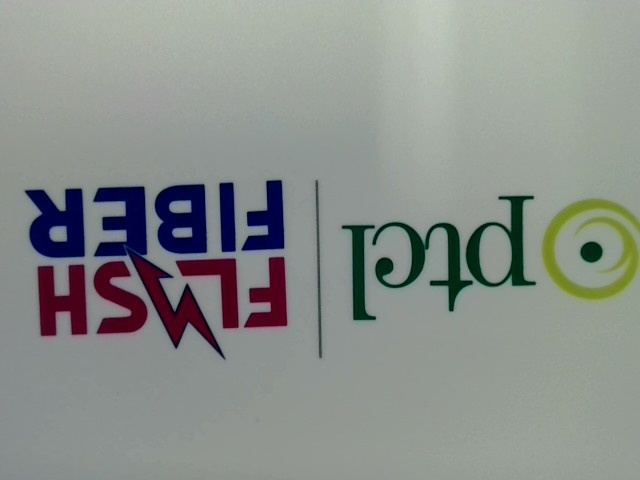BF_PTCL: (335, 191, 639, 324)
